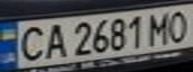1: (124, 12, 148, 48)
2: (69, 18, 93, 57)
6: (90, 16, 112, 55)
8: (109, 15, 130, 52)
A: (39, 20, 69, 60)
C: (12, 24, 48, 62)
M: (145, 9, 175, 46)
O: (163, 7, 190, 44)
